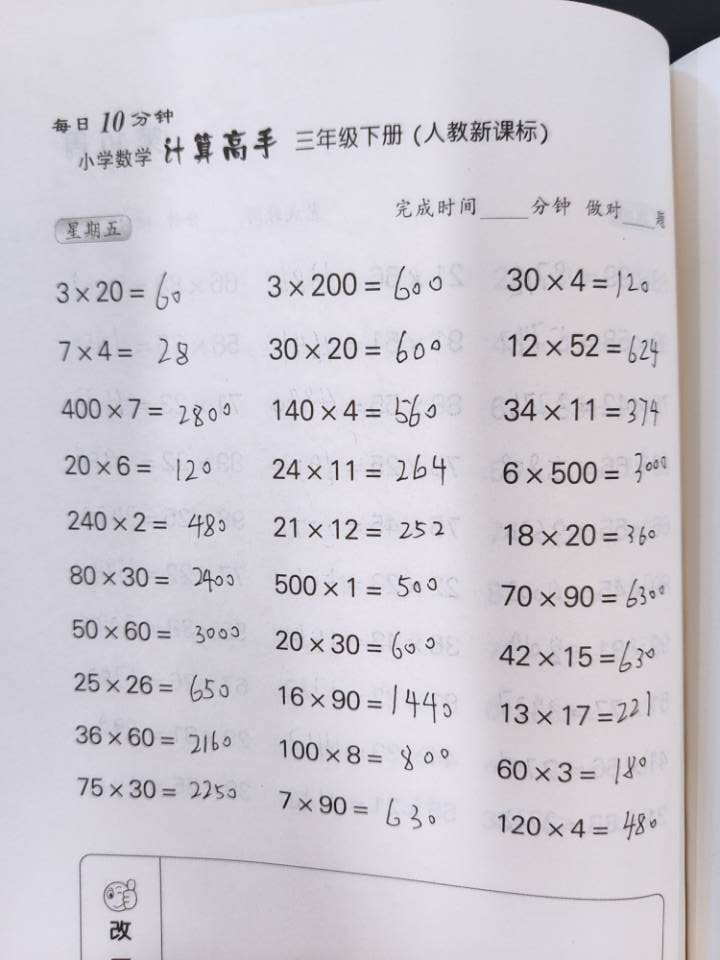equation: (410, 343, 468, 605), (458, 339, 507, 615), (277, 637, 328, 897), (379, 339, 423, 629), (332, 61, 383, 305), (193, 348, 237, 616), (233, 64, 283, 299), (530, 632, 574, 891), (288, 365, 333, 611), (288, 61, 332, 309), (512, 337, 552, 605), (333, 341, 373, 607), (328, 667, 374, 896), (604, 68, 645, 324), (413, 641, 456, 883), (373, 641, 413, 900), (454, 624, 492, 891), (188, 700, 241, 889), (494, 636, 536, 873), (424, 67, 466, 304), (245, 357, 283, 616), (383, 63, 422, 315), (548, 339, 584, 605), (514, 76, 556, 303), (474, 68, 511, 320), (572, 632, 611, 869), (590, 379, 630, 605), (562, 81, 598, 308), (244, 692, 283, 901), (197, 72, 231, 305)
